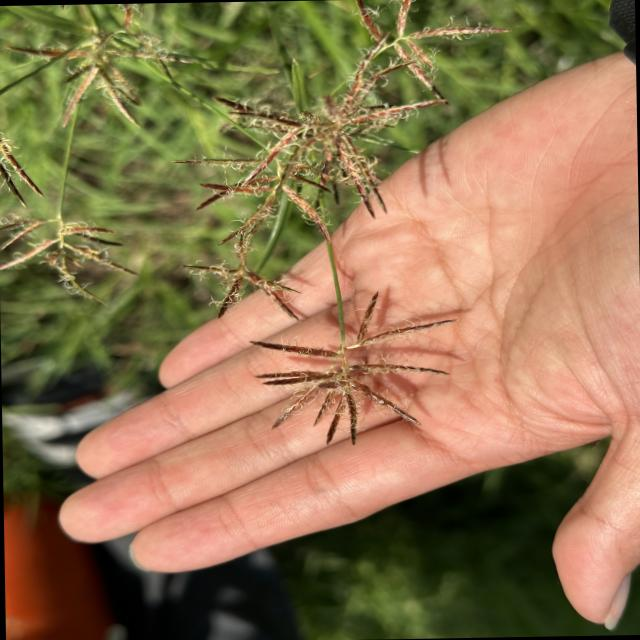cyperus: (176, 1, 510, 458), (179, 0, 510, 324), (0, 4, 227, 306), (252, 298, 458, 450)
